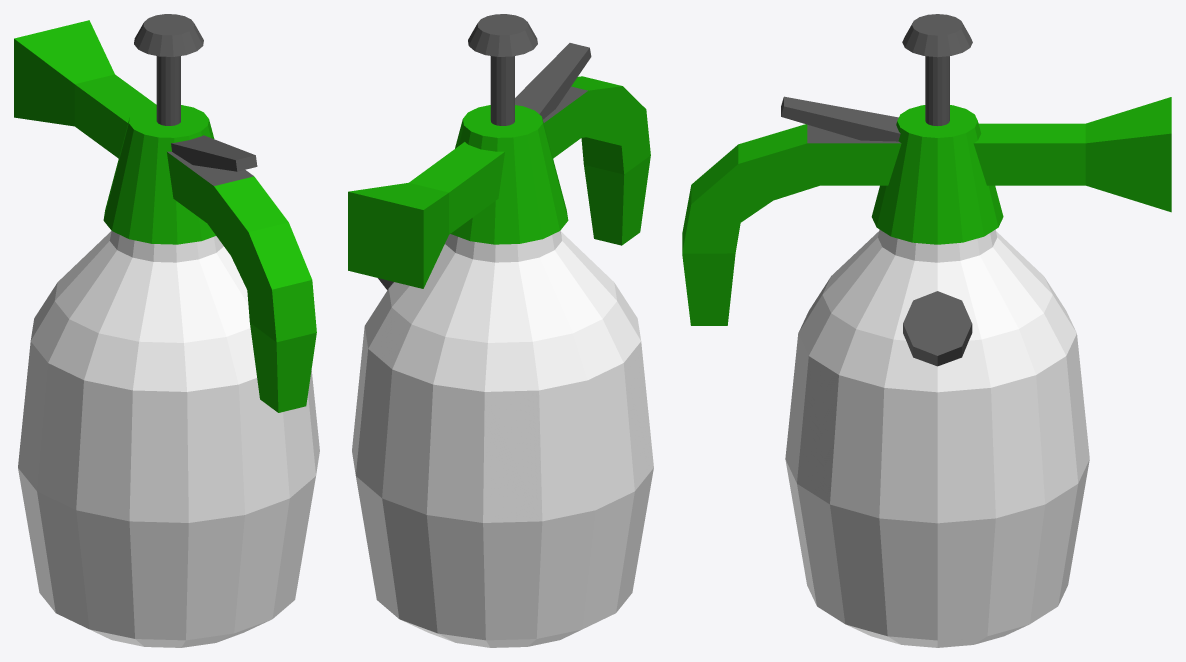
File: sprayCleaner.glb
The picture shows the model from 3 angles, left to right: view 1: azimuth 30°, elevation 25°; view 2: azimuth 150°, elevation 25°; view 3: azimuth 270°, elevation 25°; orthographic projection.
Visible parts, largest first — view 1: Cylinder; view 2: Cylinder; view 3: Cylinder.
Boxes of the visible parts, x1,y1,x2,y2 form: Cylinder: (14,14,319,647); Cylinder: (348,14,653,647); Cylinder: (682,14,1171,647).
Size of the model in its own units: 0.5625 by 1.19 by 0.9046.
1 material, 1 textured.
